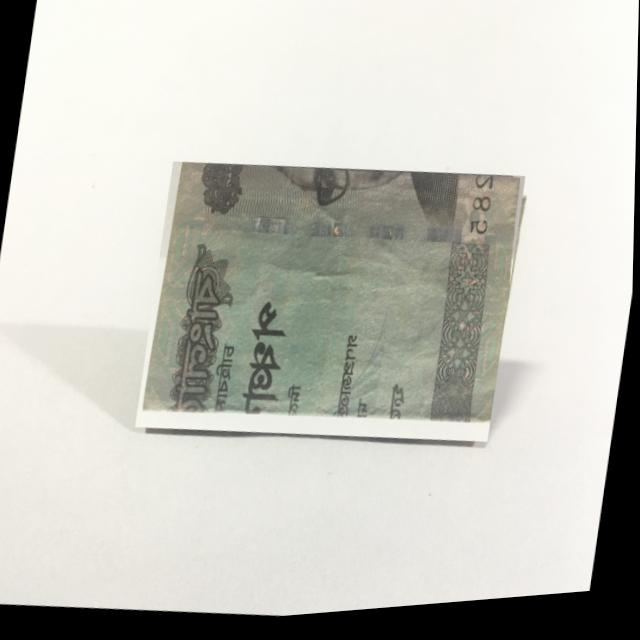Taka: (136, 141, 526, 473)
